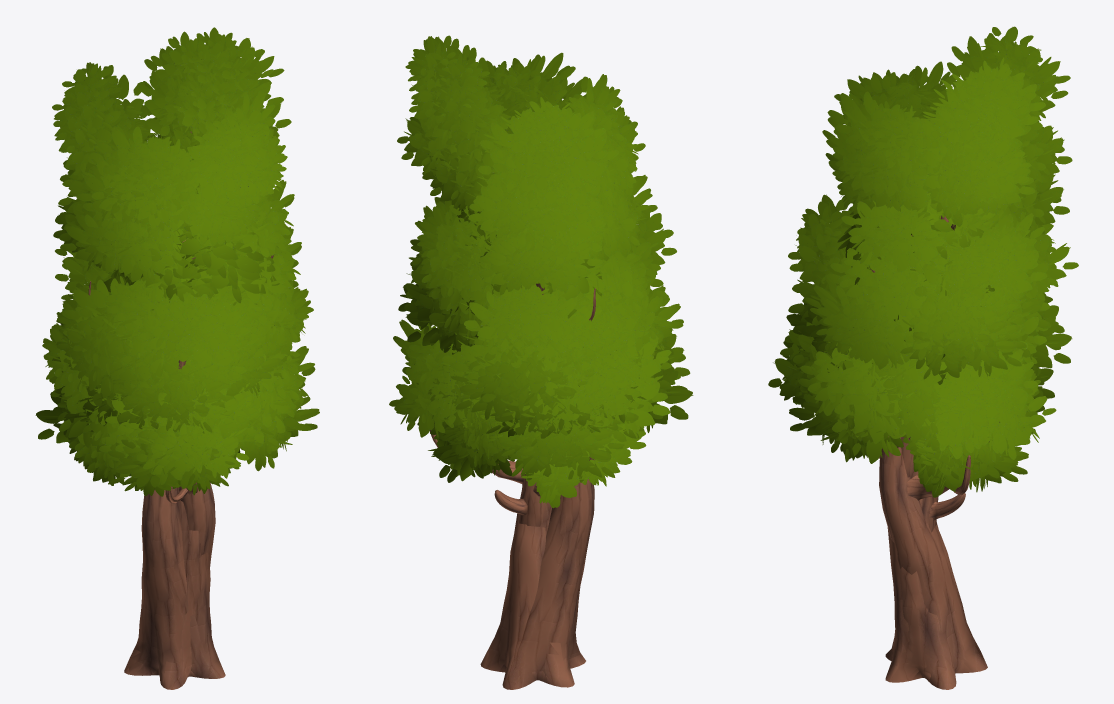
Rendered from commontree.glb.
3 views of the same model, side by side, from view 1: azimuth 30°, elevation 25°; view 2: azimuth 150°, elevation 25°; view 3: azimuth 270°, elevation 25° (orthographic). The views are drawn at different scales.
Visible parts, largest first — view 1: CommonTree_3, CommonTree_4, CommonTree_1, CommonTree_2, CommonTree_5; view 2: CommonTree_3, CommonTree_4, CommonTree_2, CommonTree_1, CommonTree_5; view 3: CommonTree_2, CommonTree_4, CommonTree_3, CommonTree_1, CommonTree_5.
Boxes of the visible parts, x1,y1,x2,y2 form: CommonTree_3: (52,31,313,689); CommonTree_4: (60,27,294,685); CommonTree_1: (35,238,319,683); CommonTree_2: (42,186,315,689); CommonTree_5: (53,241,291,677); CommonTree_3: (414,45,676,686); CommonTree_4: (397,35,645,689); CommonTree_2: (389,201,690,689); CommonTree_1: (405,200,693,684); CommonTree_5: (450,215,671,685); CommonTree_2: (768,184,1056,689); CommonTree_4: (822,26,1072,689); CommonTree_3: (784,43,1069,689); CommonTree_1: (779,204,1072,686); CommonTree_5: (806,212,1078,681).
Size of what is drawn, in the model's own units: 4.46 by 9.44 by 4.65.
Materials: 2 (2 with a texture image).
